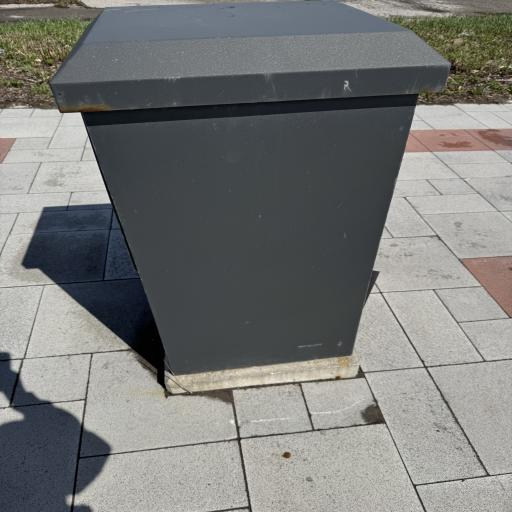Electrical Box: (48, 6, 452, 378)
